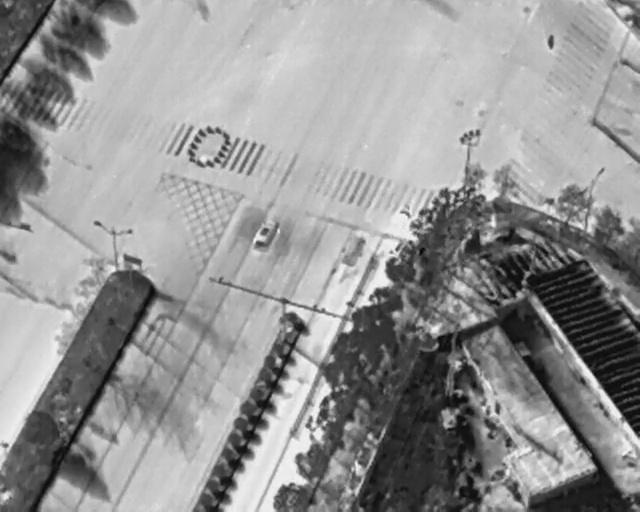Car: (250, 215, 281, 252)
Person: (548, 33, 555, 52)
